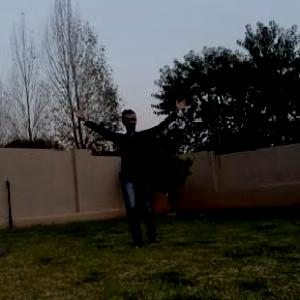takeoff: (79, 96, 192, 246)
